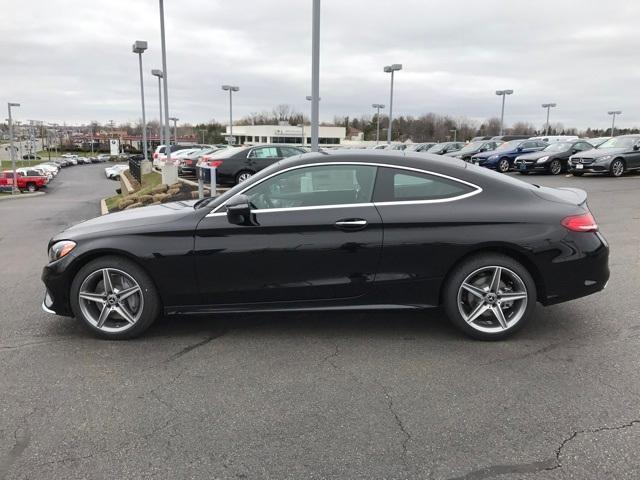C300Coupe: (43, 144, 614, 349)
